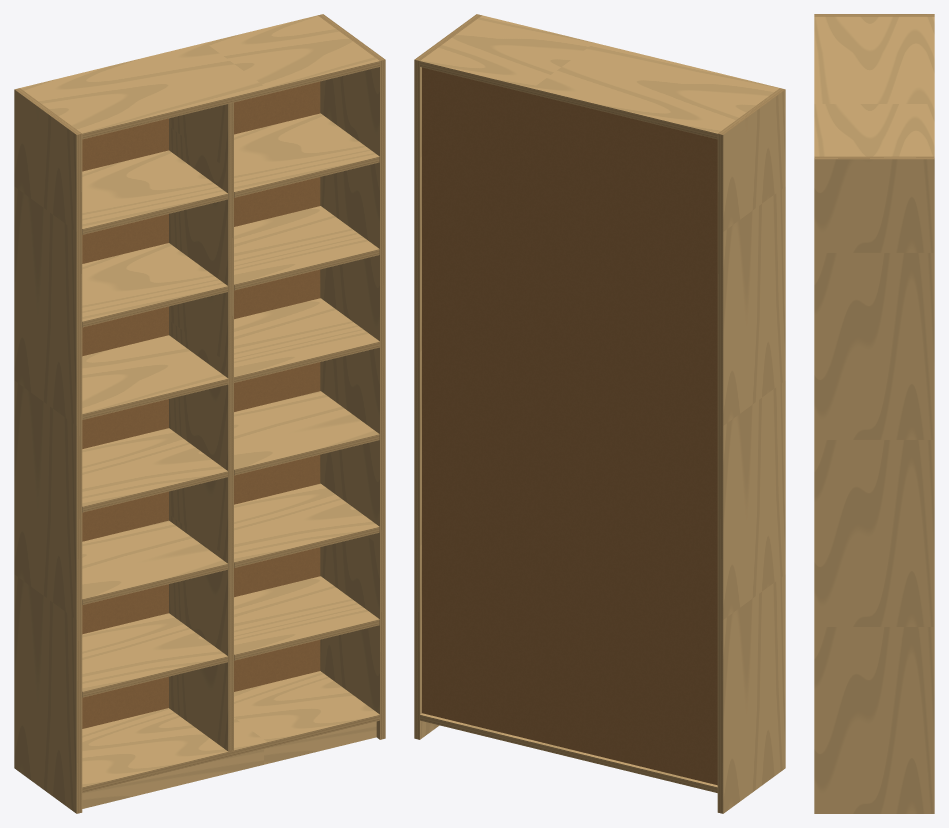
File: HIN-BKC-tall.glb
3 views of the same model, side by side, from view 1: azimuth 30°, elevation 25°; view 2: azimuth 150°, elevation 25°; view 3: azimuth 270°, elevation 25° (orthographic). The views are drawn at different scales.
Parts seen in each view (by area): view 1: side-l:sheet:eyJtIjoicGx5Iiwic2lkZSI6ImZhY2UiLCJzZWVkIjoxLCJ, back:sheet:eyJtIjoibWRmIiwic2lkZSI6ImZhY2UiLCJzZWVkIjowLCJ0a, partition:sheet:eyJtIjoicGx5Iiwic2lkZSI6ImZhY2UiLCJzZWVkIjo0, side-r:sheet:eyJtIjoicGx5Iiwic2lkZSI6ImZhY2UiLCJzZWVkIjozLCJ, top:sheet:eyJtIjoicGx5Iiwic2lkZSI6ImZhY2UiLCJzZWVkIjo2LCJ2ZW, bottom:sheet:eyJtIjoicGx5Iiwic2lkZSI6ImZhY2UiLCJzZWVkIjowLCJ, shelf-fixedl:sheet:eyJtIjoicGx5Iiwic2lkZSI6ImZhY2UiLCJzZWVkI, shelf-fixedr:sheet:eyJtIjoicGx5Iiwic2lkZSI6ImZhY2UiLCJzZWVkI, shelf-1:sheet:eyJtIjoicGx5Iiwic2lkZSI6ImZhY2UiLCJzZWVkIjoyLC, shelf-7:sheet:eyJtIjoicGx5Iiwic2lkZSI6ImZhY2UiLCJzZWVkIjo0LC, shelf-9:sheet:eyJtIjoicGx5Iiwic2lkZSI6ImZhY2UiLCJzZWVkIjo0LC, shelf-3:sheet:eyJtIjoicGx5Iiwic2lkZSI6ImZhY2UiLCJzZWVkIjoxLC (+24 smaller); view 2: back:sheet:eyJtIjoibWRmIiwic2lkZSI6ImZhY2UiLCJzZWVkIjowLCJ0a, side-l:sheet:eyJtIjoicGx5Iiwic2lkZSI6ImZhY2UiLCJzZWVkIjoxLCJ, top:sheet:eyJtIjoicGx5Iiwic2lkZSI6ImZhY2UiLCJzZWVkIjo2LCJ2ZW, side-l:sheet:eyJtIjoicGx5Iiwic2lkZSI6ImVkZ2UtbG9uZyIsInNlZWQ, side-r:sheet:eyJtIjoicGx5Iiwic2lkZSI6ImVkZ2UtbG9uZyIsInNlZWQ, top:sheet:eyJtIjoicGx5Iiwic2lkZSI6ImVkZ2UtbG9uZyIsInNlZWQiOj, bottom:sheet:eyJtIjoicGx5Iiwic2lkZSI6ImVkZ2UtbG9uZyIsInNlZWQ, side-r:sheet:eyJtIjoicGx5Iiwic2lkZSI6ImZhY2UiLCJzZWVkIjozLCJ, bottom:sheet:eyJtIjoicGx5Iiwic2lkZSI6ImZhY2UiLCJzZWVkIjowLCJ; view 3: side-r:sheet:eyJtIjoicGx5Iiwic2lkZSI6ImZhY2UiLCJzZWVkIjozLCJ, top:sheet:eyJtIjoicGx5Iiwic2lkZSI6ImZhY2UiLCJzZWVkIjo2LCJ2ZW, side-r:sheet:eyJtIjoicGx5Iiwic2lkZSI6ImVkZ2UtZW5kIiwic2VlZCI, side-l:sheet:eyJtIjoicGx5Iiwic2lkZSI6ImVkZ2UtZW5kIiwic2VlZCI.
Part boxes in pixels (box(x1,y1,x2,y2)): side-l:sheet:eyJtIjoicGx5Iiwic2lkZSI6ImZhY2UiLCJzZWVkIjoxLCJ: box(14, 89, 76, 813); back:sheet:eyJtIjoibWRmIiwic2lkZSI6ImZhY2UiLCJzZWVkIjowLCJ0a: box(82, 81, 320, 728); partition:sheet:eyJtIjoicGx5Iiwic2lkZSI6ImZhY2UiLCJzZWVkIjo0: box(169, 104, 228, 751); side-r:sheet:eyJtIjoicGx5Iiwic2lkZSI6ImZhY2UiLCJzZWVkIjozLCJ: box(320, 67, 379, 739); top:sheet:eyJtIjoicGx5Iiwic2lkZSI6ImZhY2UiLCJzZWVkIjo2LCJ2ZW: box(20, 15, 379, 133); bottom:sheet:eyJtIjoicGx5Iiwic2lkZSI6ImZhY2UiLCJzZWVkIjowLCJ: box(82, 671, 379, 787); shelf-fixedl:sheet:eyJtIjoicGx5Iiwic2lkZSI6ImZhY2UiLCJzZWVkI: box(82, 335, 227, 413); shelf-fixedr:sheet:eyJtIjoicGx5Iiwic2lkZSI6ImZhY2UiLCJzZWVkI: box(234, 298, 379, 376); shelf-1:sheet:eyJtIjoicGx5Iiwic2lkZSI6ImZhY2UiLCJzZWVkIjoyLC: box(82, 613, 227, 691); shelf-7:sheet:eyJtIjoicGx5Iiwic2lkZSI6ImZhY2UiLCJzZWVkIjo0LC: box(82, 243, 227, 321); shelf-9:sheet:eyJtIjoicGx5Iiwic2lkZSI6ImZhY2UiLCJzZWVkIjo0LC: box(82, 150, 227, 228); shelf-3:sheet:eyJtIjoicGx5Iiwic2lkZSI6ImZhY2UiLCJzZWVkIjoxLC: box(82, 520, 227, 599); back:sheet:eyJtIjoibWRmIiwic2lkZSI6ImZhY2UiLCJzZWVkIjowLCJ0a: box(422, 67, 717, 785); side-l:sheet:eyJtIjoicGx5Iiwic2lkZSI6ImZhY2UiLCJzZWVkIjoxLCJ: box(723, 89, 785, 813); top:sheet:eyJtIjoicGx5Iiwic2lkZSI6ImZhY2UiLCJzZWVkIjo2LCJ2ZW: box(420, 15, 779, 133); side-l:sheet:eyJtIjoicGx5Iiwic2lkZSI6ImVkZ2UtbG9uZyIsInNlZWQ: box(717, 134, 723, 813); side-r:sheet:eyJtIjoicGx5Iiwic2lkZSI6ImVkZ2UtbG9uZyIsInNlZWQ: box(414, 59, 419, 739); top:sheet:eyJtIjoicGx5Iiwic2lkZSI6ImVkZ2UtbG9uZyIsInNlZWQiOj: box(420, 61, 717, 139); bottom:sheet:eyJtIjoicGx5Iiwic2lkZSI6ImVkZ2UtbG9uZyIsInNlZWQ: box(420, 715, 717, 792); side-r:sheet:eyJtIjoicGx5Iiwic2lkZSI6ImZhY2UiLCJzZWVkIjozLCJ: box(420, 67, 439, 739); bottom:sheet:eyJtIjoicGx5Iiwic2lkZSI6ImZhY2UiLCJzZWVkIjowLCJ: box(420, 713, 717, 787); side-r:sheet:eyJtIjoicGx5Iiwic2lkZSI6ImZhY2UiLCJzZWVkIjozLCJ: box(814, 159, 934, 813); top:sheet:eyJtIjoicGx5Iiwic2lkZSI6ImZhY2UiLCJzZWVkIjo2LCJ2ZW: box(814, 16, 934, 156); side-r:sheet:eyJtIjoicGx5Iiwic2lkZSI6ImVkZ2UtZW5kIiwic2VlZCI: box(814, 156, 934, 159); side-l:sheet:eyJtIjoicGx5Iiwic2lkZSI6ImVkZ2UtZW5kIiwic2VlZCI: box(814, 14, 934, 16).
Bounding box in the file's own units: 1 × 2.1 × 0.35.
57 materials, 57 textured.
